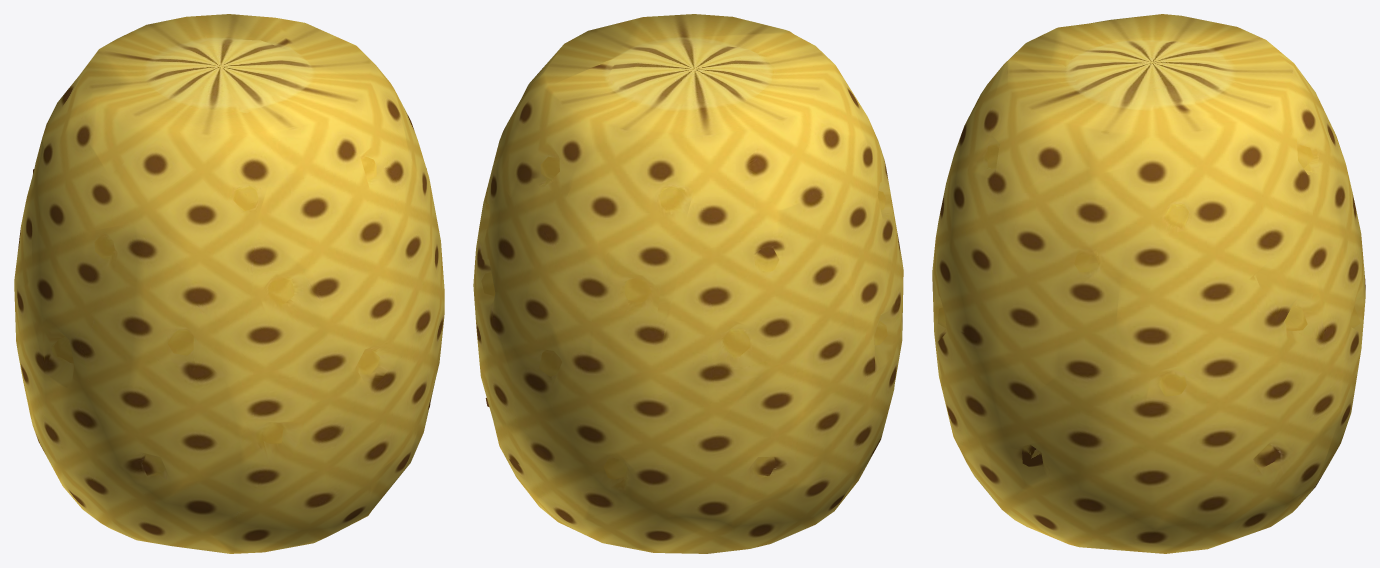
File: pineapple_peeled.glb
The picture shows the model from 3 angles, left to right: view 1: azimuth 30°, elevation 25°; view 2: azimuth 150°, elevation 25°; view 3: azimuth 270°, elevation 25°; orthographic projection.
Parts seen in each view (by area): view 1: tripo_node_b760ac5e-41e0-493a-af21-426d0f372bf8; view 2: tripo_node_b760ac5e-41e0-493a-af21-426d0f372bf8; view 3: tripo_node_b760ac5e-41e0-493a-af21-426d0f372bf8.
Boxes of the visible parts, box(x1,y1,x2,y2) form: tripo_node_b760ac5e-41e0-493a-af21-426d0f372bf8: box(14, 14, 444, 553); tripo_node_b760ac5e-41e0-493a-af21-426d0f372bf8: box(473, 14, 903, 553); tripo_node_b760ac5e-41e0-493a-af21-426d0f372bf8: box(932, 14, 1365, 553).
Size of the model in its own units: 0.8979 by 0.9999 by 0.905.
Materials: 1 (1 with a texture image).
